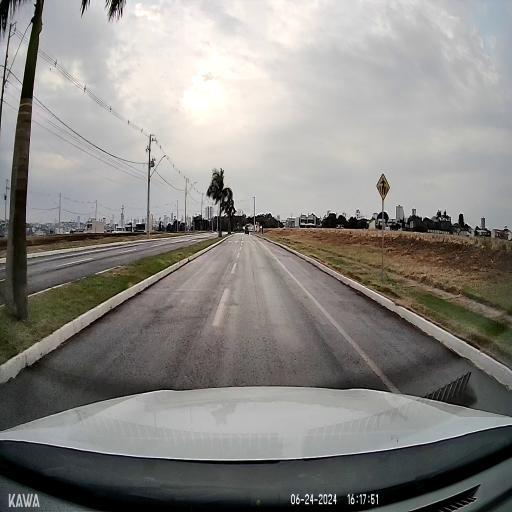A-32b: (377, 172, 390, 200)
